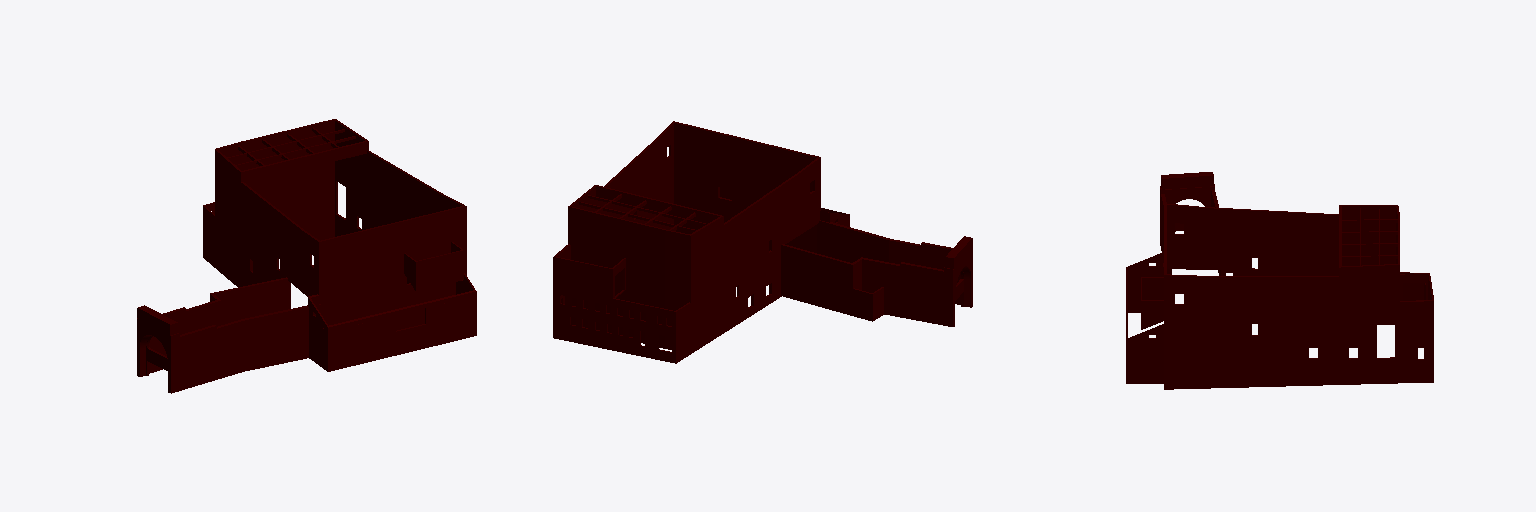
Rendered from ExternalWall.obj.
The picture shows the model from 3 angles: view 1: azimuth 30°, elevation 25°; view 2: azimuth 150°, elevation 25°; view 3: azimuth 270°, elevation 25°; orthographic projection.
Bounding box in the file's own units: 72.53 × 26.94 × 63.59.